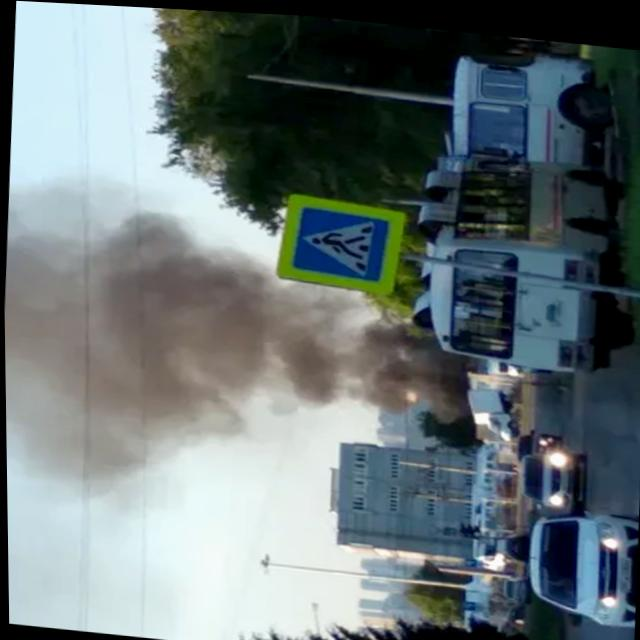Smoke: (2, 197, 431, 520)
